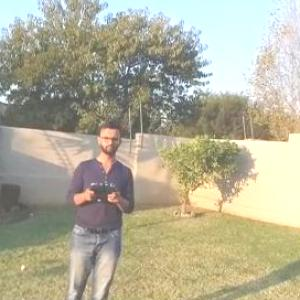follow: (64, 110, 143, 299)
